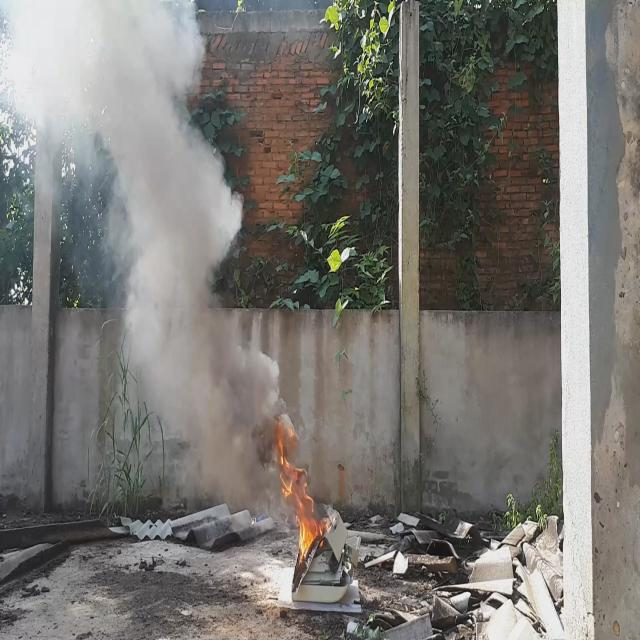Fire: (276, 414, 324, 566)
Smoke: (0, 0, 301, 523)
